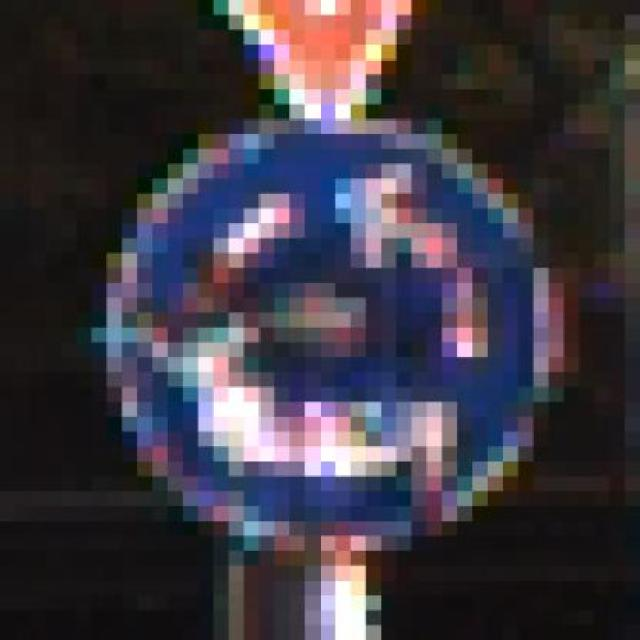Round-About: (45, 89, 610, 566)
